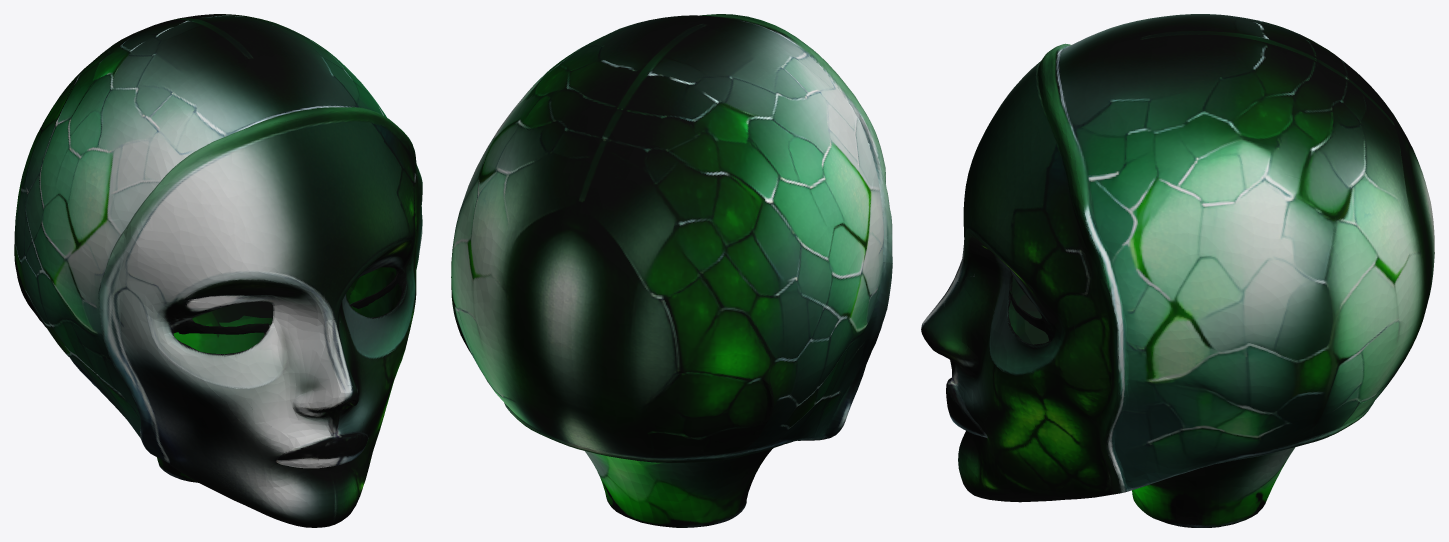
The model's file is compressed-seaweed-face-mask-futuristic.jpeg.glb.
3 renders of one model, left to right at view 1: azimuth 30°, elevation 25°; view 2: azimuth 150°, elevation 25°; view 3: azimuth 270°, elevation 25°, orthographic. The views are drawn at different scales.
Visible parts, largest first — view 1: world; view 2: world; view 3: world.
Part boxes in pixels (x1,y1,x2,y2): world: [14, 14, 422, 527]; world: [451, 14, 892, 527]; world: [921, 14, 1434, 527].
Size of the model in its own units: 0.8197 by 0.9999 by 0.9991.
Materials: 1 (1 with a texture image).
